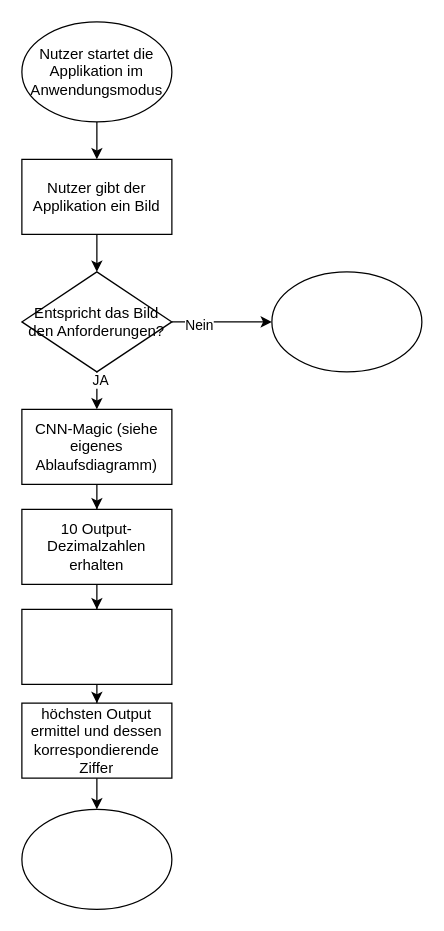
Some shapes in this 444 by 931 pixel diagram are drawn without their labels. Here are the shapes that lost their labels. From the top down, the centre of each, then its label:
(346,321): Error welche Anforderung nicht erfüllt wurde
(96,646): Umwandlung der Dezimalzahlen in Prozent für Nutzeranzeige
(96,858): Prozentwerte und Ziffer des höchsten Outputs dem Nutzer in der Konsole anzeigen
